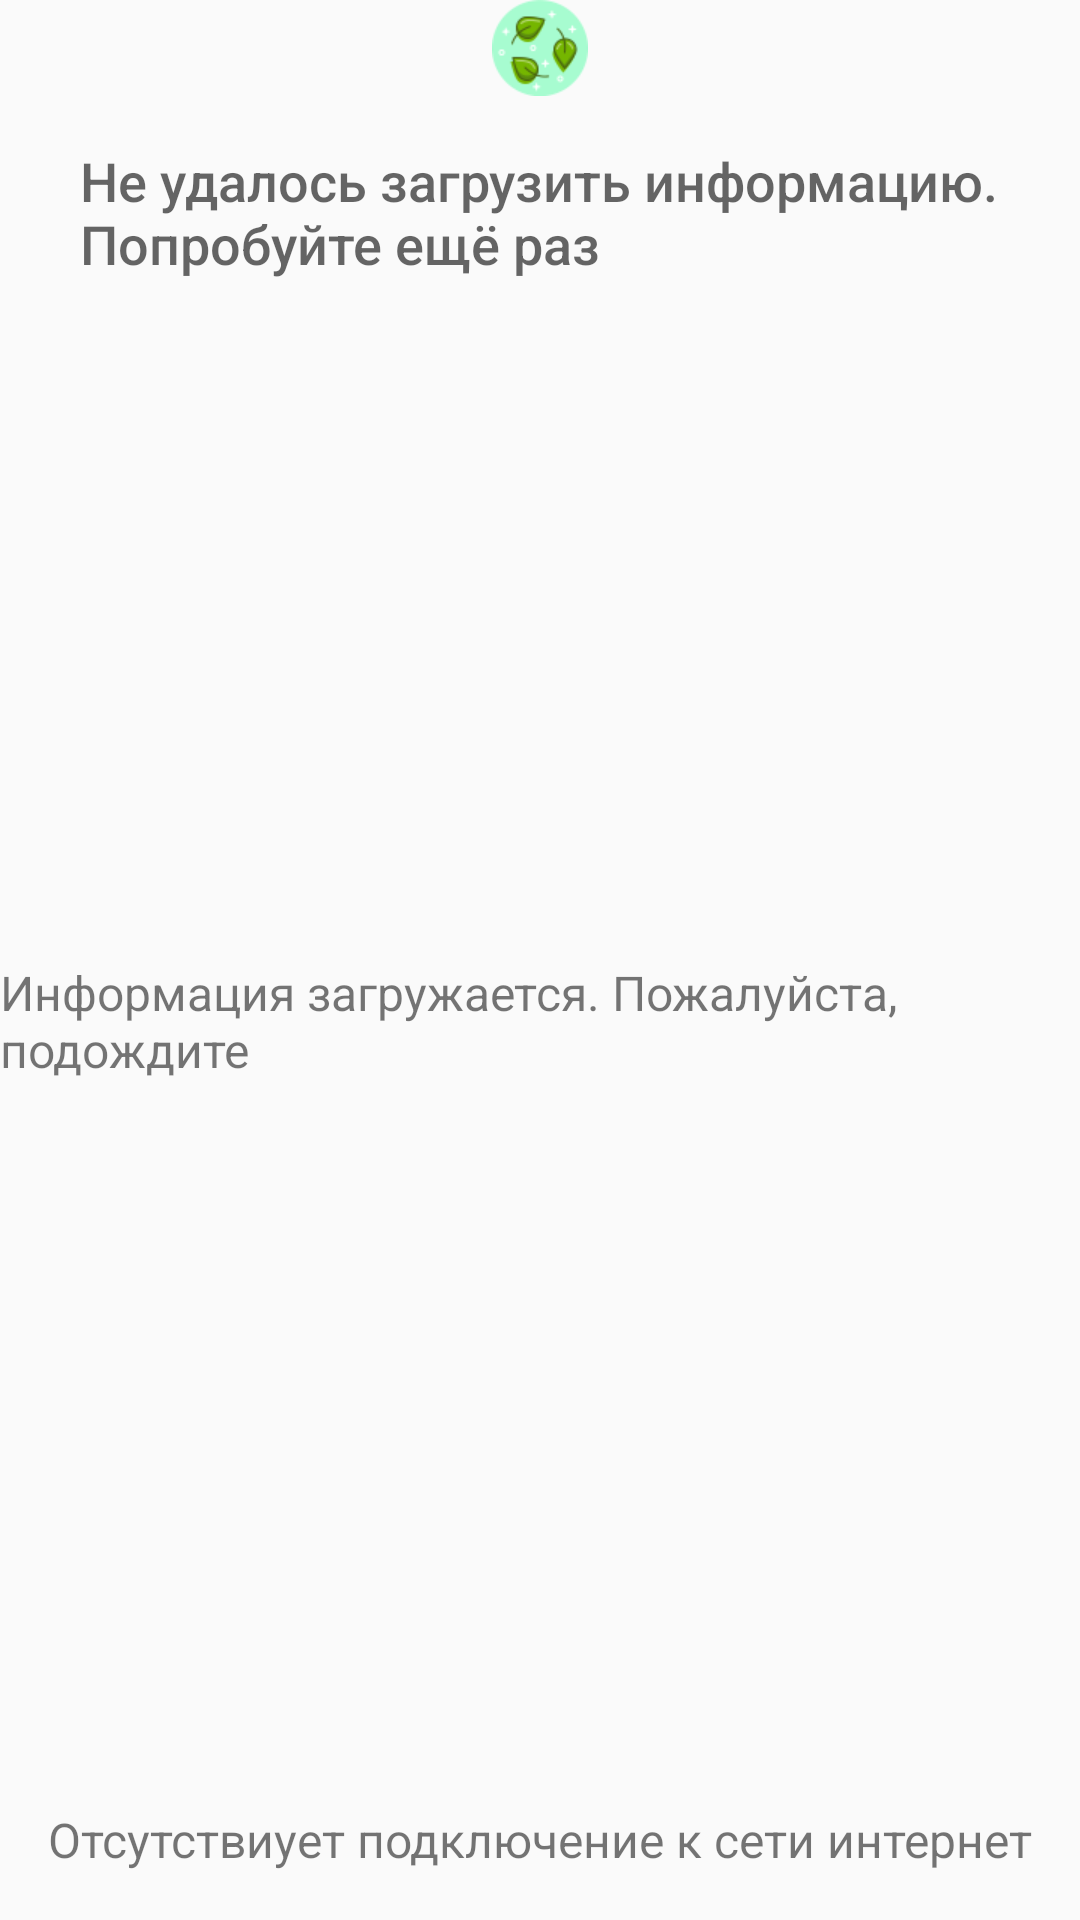

Screen size 1080 x 1920. Icon name, then its center in pixels as [x,y]:
if recycling: [540,48]
